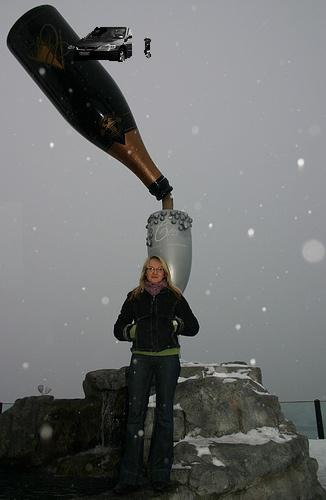tampered: (69, 28, 151, 62)
